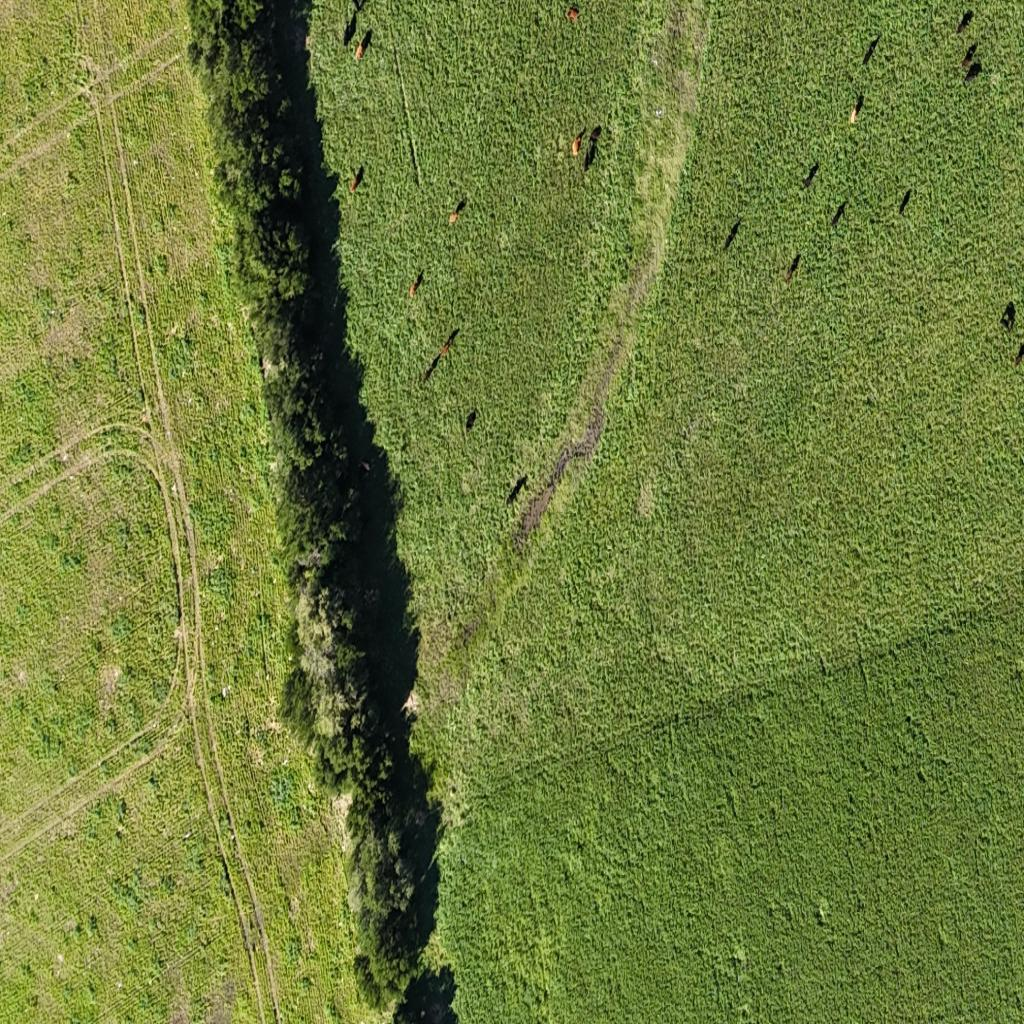cow: (507, 474, 527, 508), (422, 352, 442, 384), (800, 161, 819, 192), (863, 34, 881, 66), (724, 219, 741, 252), (343, 10, 357, 48), (408, 269, 424, 301), (784, 254, 800, 285), (831, 199, 848, 228), (1000, 302, 1016, 332), (441, 327, 457, 357), (449, 198, 465, 227), (356, 30, 371, 60), (584, 140, 598, 172), (850, 92, 863, 126), (957, 10, 973, 35), (350, 164, 363, 194), (571, 129, 585, 156), (962, 42, 977, 67), (965, 61, 982, 83), (899, 188, 911, 214), (588, 125, 602, 146), (465, 408, 477, 432), (566, 6, 580, 24), (1017, 340, 1024, 368), (360, 461, 370, 473)
